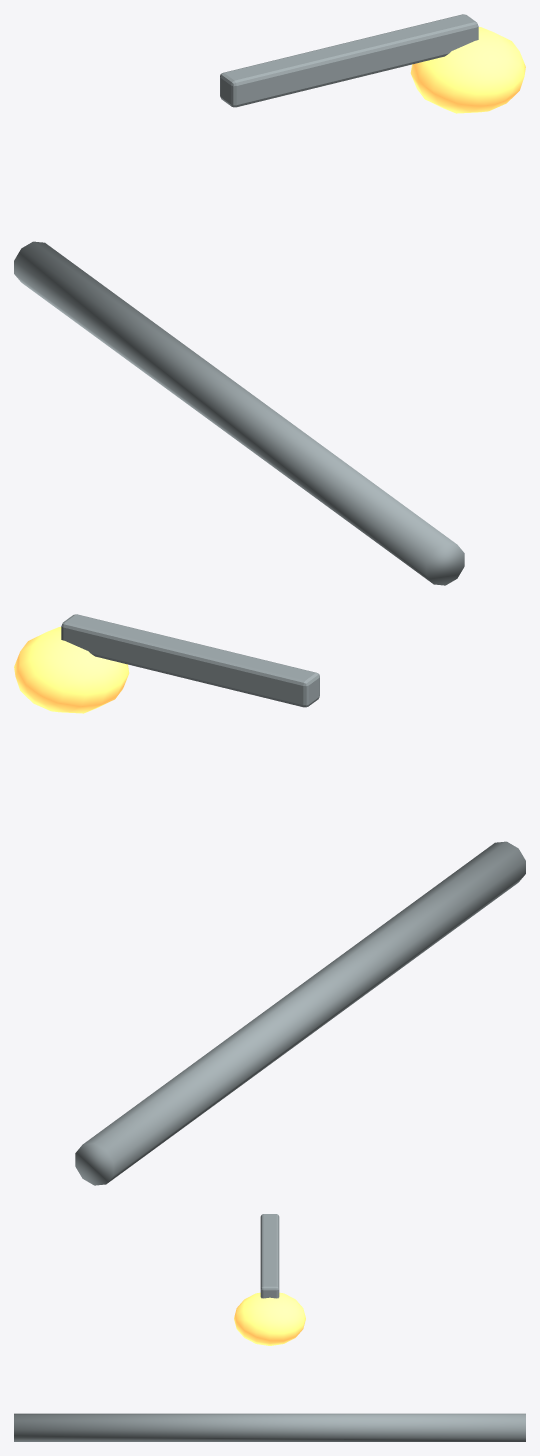
File: streetlight.glb
3 renders of one model, top to bottom at view 1: azimuth 30°, elevation 25°; view 2: azimuth 150°, elevation 25°; view 3: azimuth 270°, elevation 25°, orthographic. The views are drawn at different scales.
Parts seen in each view (by area): view 1: streetlight_pole, streetlight_arm, streetlight_lamp; view 2: streetlight_pole, streetlight_arm, streetlight_lamp; view 3: streetlight_pole, streetlight_lamp, streetlight_arm.
Part boxes in pixels (x1=…): streetlight_pole: x1=14, y1=241, x2=464, y2=585; streetlight_arm: x1=220, y1=14, x2=478, y2=107; streetlight_lamp: x1=410, y1=27, x2=525, y2=113; streetlight_pole: x1=75, y1=841, x2=525, y2=1185; streetlight_arm: x1=61, y1=614, x2=319, y2=707; streetlight_lamp: x1=14, y1=627, x2=129, y2=713; streetlight_pole: x1=14, y1=1413, x2=525, y2=1441; streetlight_lamp: x1=234, y1=1292, x2=305, y2=1345; streetlight_arm: x1=260, y1=1214, x2=279, y2=1298.
Bounding box in the file's own units: 0.3259 × 0.376 × 0.78.
